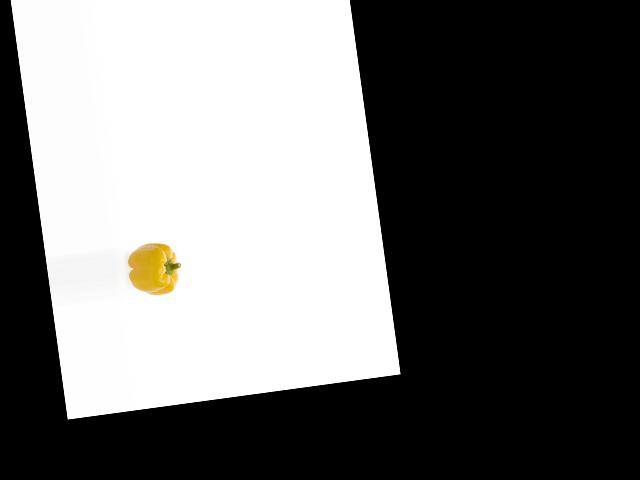bell_pepper: (124, 240, 186, 302)
